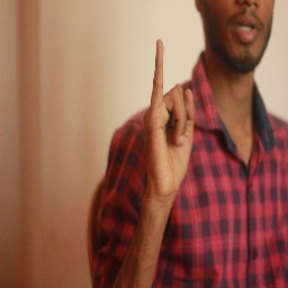I: (140, 37, 201, 196)
